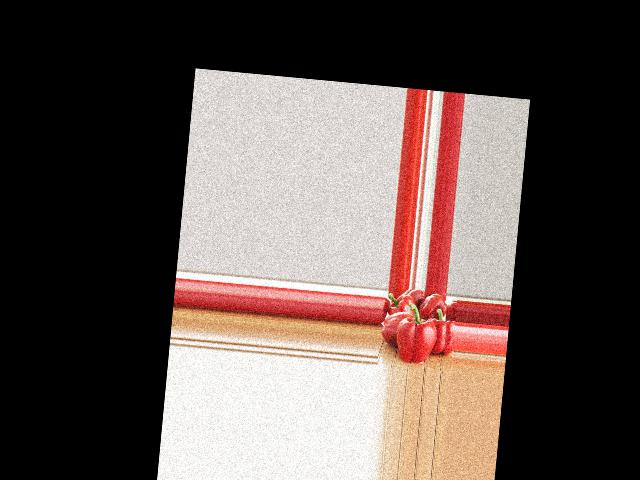bell_pepper: (384, 292, 416, 318)
